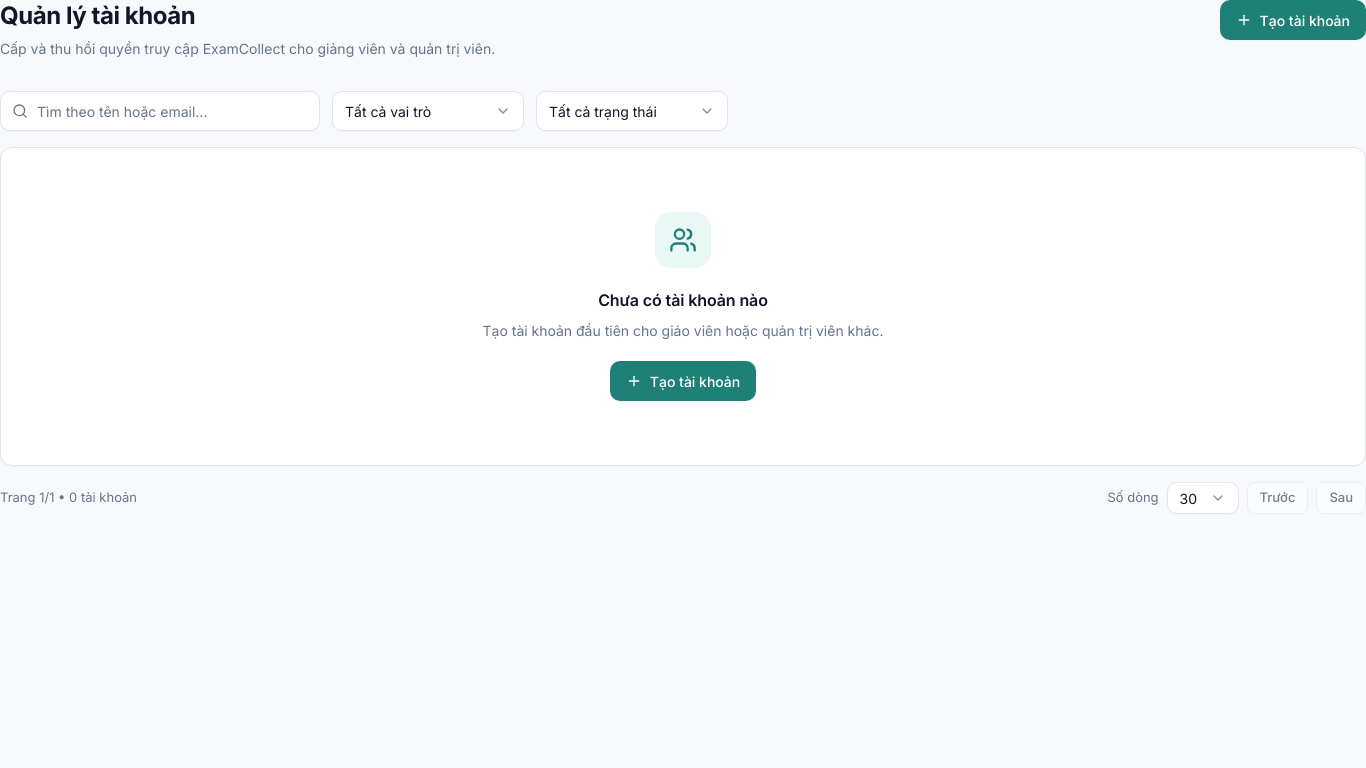
it: AccountsPage fetch states › opens the create dialog, submits, and shows a success toast on create
The image size is (1366, 768).
Click the button "Tạo tài khoản" in the row of "Quản lý tài khoản": (1293, 20) [1220,0,1365,40]
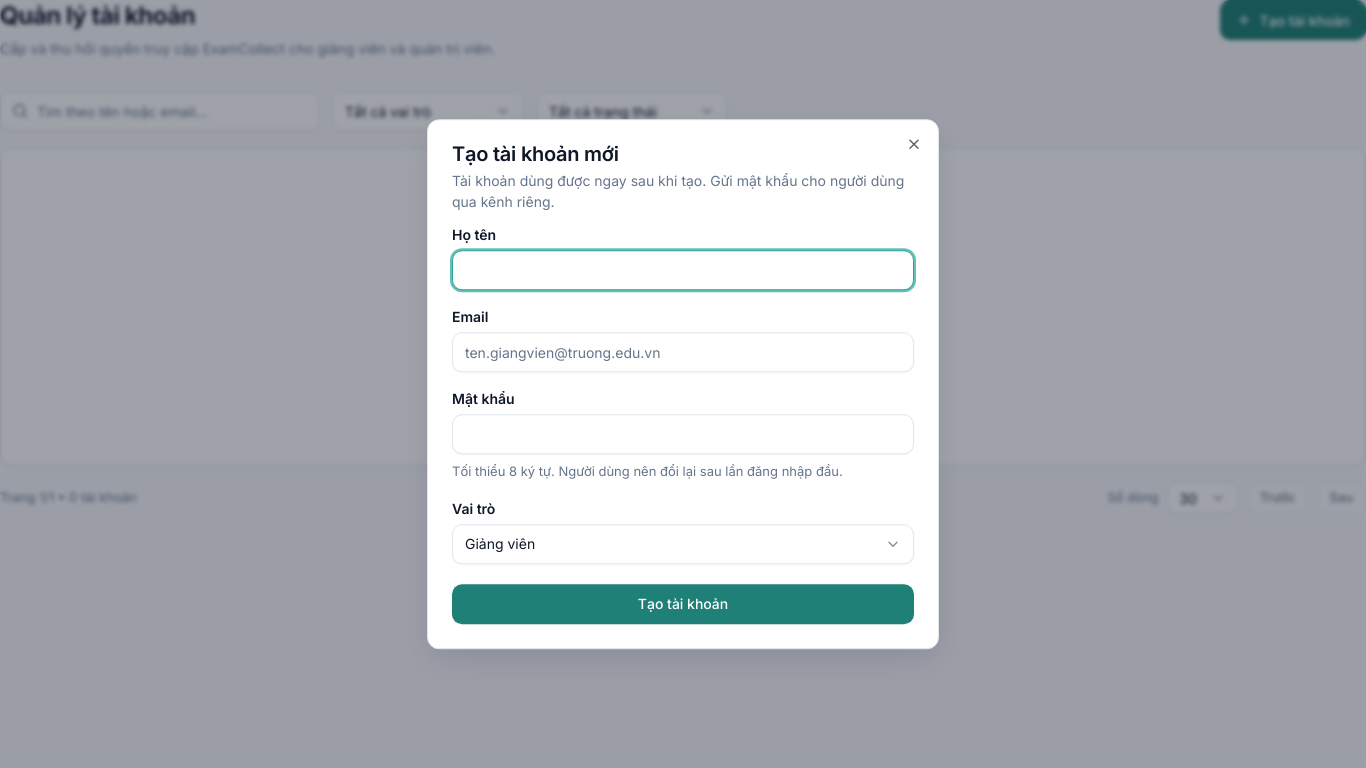
Expected: the dialog is shown, [427,119,939,649]
Expected: the field labelled "Họ tên" is shown, [452,250,914,290]
